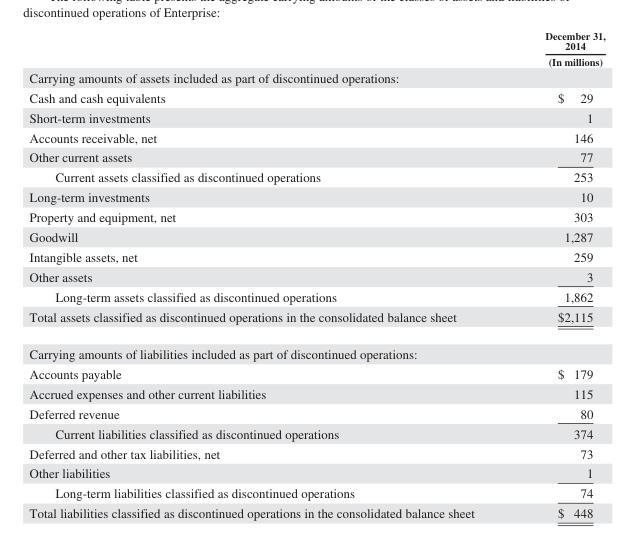table: (28, 29, 604, 520)
table column: (28, 29, 509, 520), (509, 29, 604, 520)
table column header: (28, 29, 604, 68)
table projected row header: (28, 334, 604, 363), (28, 68, 604, 87)
table row: (28, 29, 604, 68), (28, 334, 604, 363), (28, 306, 604, 334), (28, 87, 604, 107), (28, 107, 604, 127), (28, 127, 604, 147), (28, 147, 604, 167), (28, 186, 604, 206), (28, 206, 604, 226), (28, 226, 604, 246), (28, 246, 604, 266), (28, 266, 604, 286), (28, 286, 604, 306), (28, 363, 604, 383), (28, 383, 604, 403), (28, 403, 604, 423), (28, 423, 604, 443), (28, 443, 604, 463), (28, 463, 604, 483), (28, 68, 604, 87), (28, 167, 604, 186), (28, 483, 604, 502), (28, 502, 604, 520)
